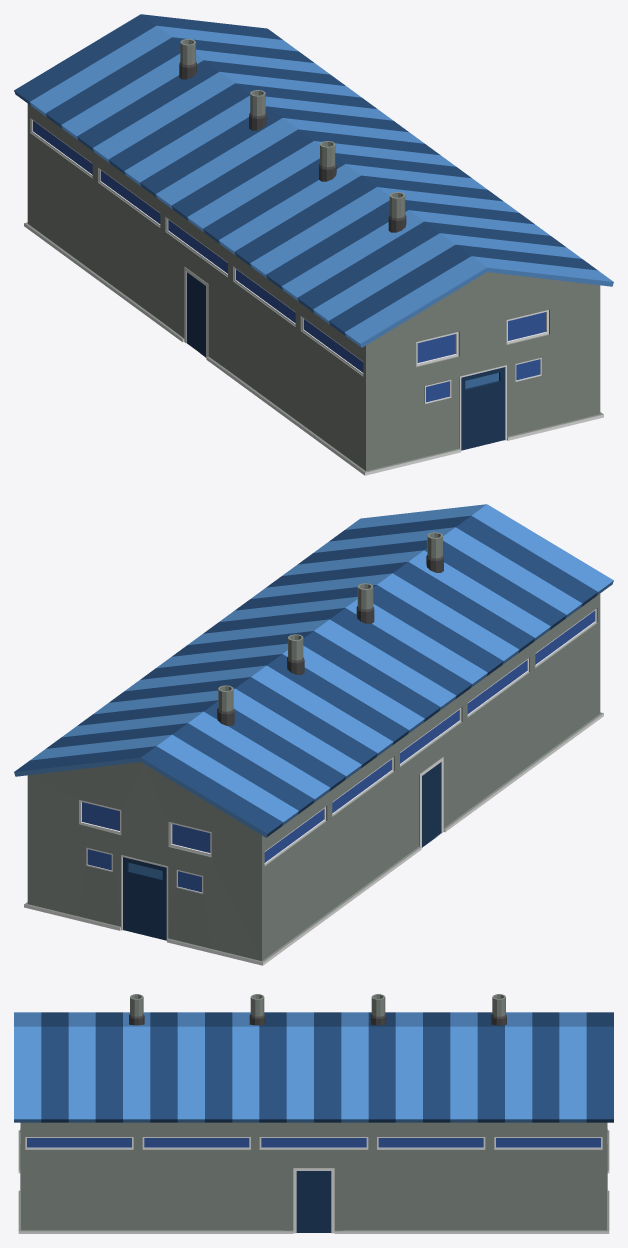
Rendered from Factory_1.fbx.
3 renders of one model, top to bottom at view 1: azimuth 30°, elevation 25°; view 2: azimuth 150°, elevation 25°; view 3: azimuth 270°, elevation 25°, orthographic. The views are drawn at different scales.
Visible parts, largest first — view 1: Factory_1; view 2: Factory_1; view 3: Factory_1.
Boxes of the visible parts, left/top/right/bottom form: Factory_1: left=14, top=14, right=613, bottom=475; Factory_1: left=14, top=504, right=613, bottom=965; Factory_1: left=14, top=994, right=613, bottom=1233.
Size of the model in its own units: 673 by 523 by 1593.
